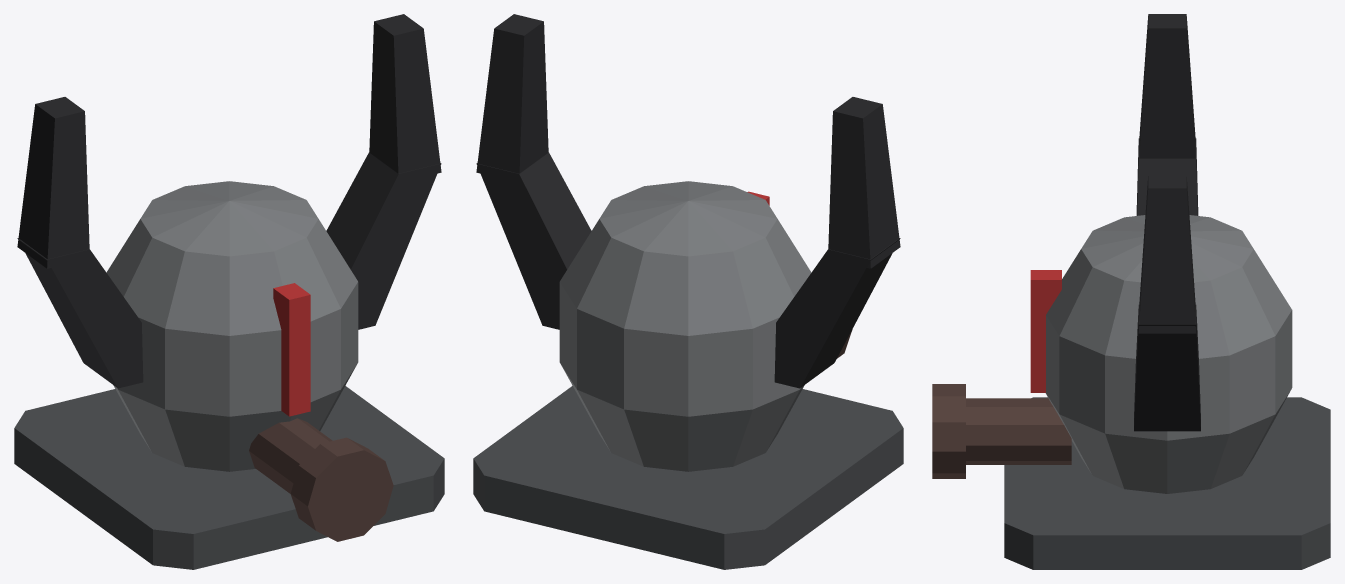
File: frenzy_inducer.obj
3 views of the same model, side by side, from view 1: azimuth 30°, elevation 25°; view 2: azimuth 150°, elevation 25°; view 3: azimuth 270°, elevation 25° (orthographic). The views are drawn at different scales.
Parts seen in each view (by area): view 1: frenzy_inducer_1, frenzy_inducer_0, frenzy_inducer_5, frenzy_inducer_4, frenzy_inducer_6, frenzy_inducer_3, frenzy_inducer_8, frenzy_inducer_2, frenzy_inducer_7; view 2: frenzy_inducer_1, frenzy_inducer_0, frenzy_inducer_5, frenzy_inducer_4, frenzy_inducer_6, frenzy_inducer_3; view 3: frenzy_inducer_1, frenzy_inducer_0, frenzy_inducer_6, frenzy_inducer_4, frenzy_inducer_5, frenzy_inducer_7, frenzy_inducer_8, frenzy_inducer_2, frenzy_inducer_3.
Part boxes in pixels (box(x1,y1,x2,y2)): frenzy_inducer_1: box(106, 181, 358, 471); frenzy_inducer_0: box(14, 386, 444, 569); frenzy_inducer_5: box(326, 152, 441, 329); frenzy_inducer_4: box(17, 97, 89, 268); frenzy_inducer_6: box(369, 14, 441, 173); frenzy_inducer_3: box(17, 238, 143, 388); frenzy_inducer_8: box(290, 437, 393, 541); frenzy_inducer_2: box(273, 283, 310, 416); frenzy_inducer_7: box(249, 418, 332, 493); frenzy_inducer_1: box(559, 181, 811, 471); frenzy_inducer_0: box(473, 386, 903, 569); frenzy_inducer_5: box(476, 152, 591, 329); frenzy_inducer_4: box(828, 97, 900, 268); frenzy_inducer_6: box(476, 14, 548, 173); frenzy_inducer_3: box(774, 238, 900, 388); frenzy_inducer_1: box(1045, 215, 1292, 493); frenzy_inducer_0: box(1004, 397, 1330, 569); frenzy_inducer_6: box(1138, 174, 1196, 333); frenzy_inducer_4: box(1139, 14, 1195, 158); frenzy_inducer_5: box(1134, 305, 1200, 431); frenzy_inducer_7: box(966, 398, 1071, 464); frenzy_inducer_8: box(932, 384, 965, 478); frenzy_inducer_2: box(1030, 270, 1061, 392); frenzy_inducer_3: box(1136, 138, 1198, 215).
Size of the model in its own units: 0.92 by 0.92 by 0.83.
